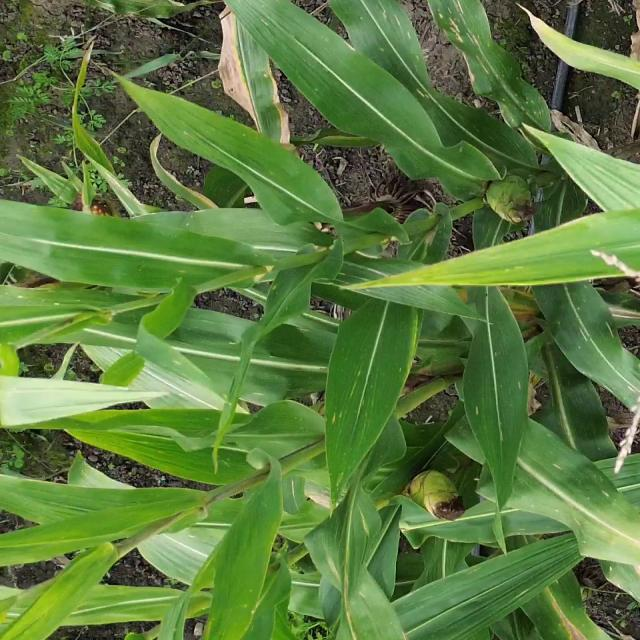gray-leaf-spot: (441, 0, 512, 86), (370, 4, 427, 73), (328, 381, 375, 464), (328, 558, 369, 632), (538, 182, 587, 225), (332, 259, 391, 292)
northern-leaf-blight: (540, 584, 605, 640)
southern-leaf-blight: (522, 492, 609, 548), (546, 286, 600, 349), (5, 286, 90, 314), (503, 90, 548, 124)
